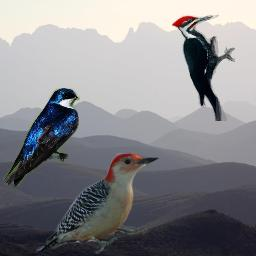Swallow: (3, 88, 80, 187)
Woodpecker: (36, 153, 162, 254), (172, 13, 235, 121)
